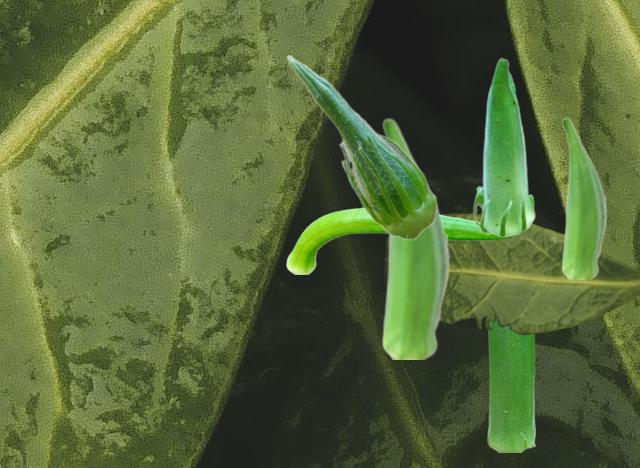okra: (286, 54, 437, 239), (286, 194, 533, 273), (381, 117, 449, 358), (472, 57, 535, 237), (561, 117, 606, 278), (486, 320, 534, 451)
